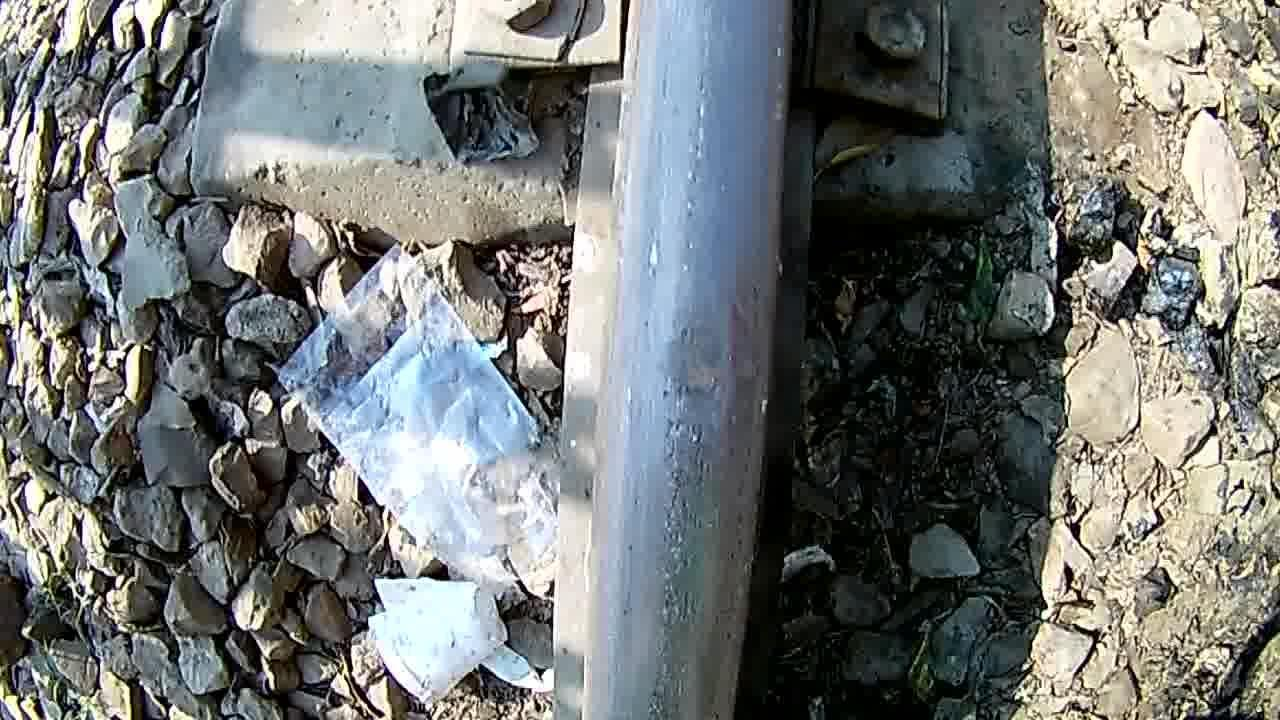crack: (614, 231, 772, 468)
